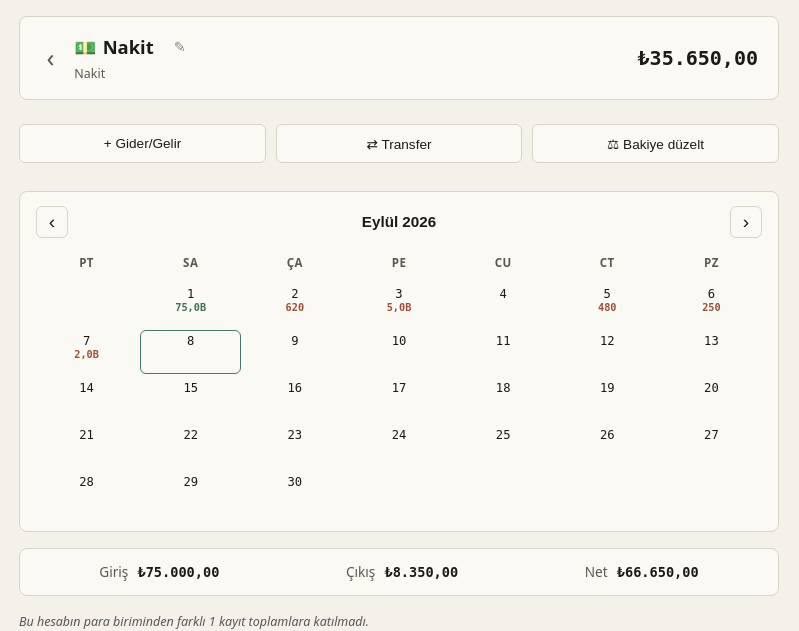
Test: Hesap detayı › takvimde ekleme isteği formu o tarihle açar
This screenshot has width=799, height=631.
Click the element showing "2 620": (295, 305) [244, 283, 345, 327]
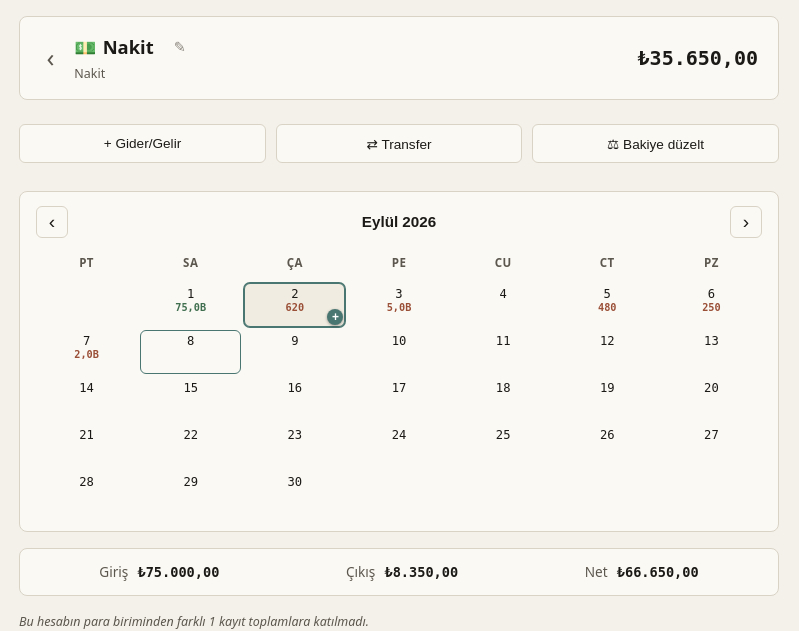
Click the button "+": (335, 317) [327, 309, 343, 325]
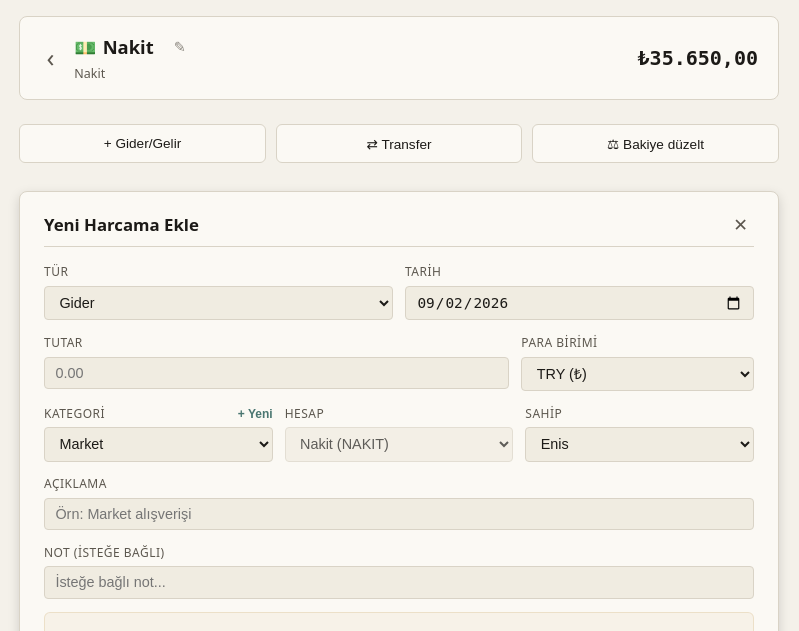
Result: the date field with id "hf-tarih" holds "2026-09-02" at [405, 286, 754, 320]
